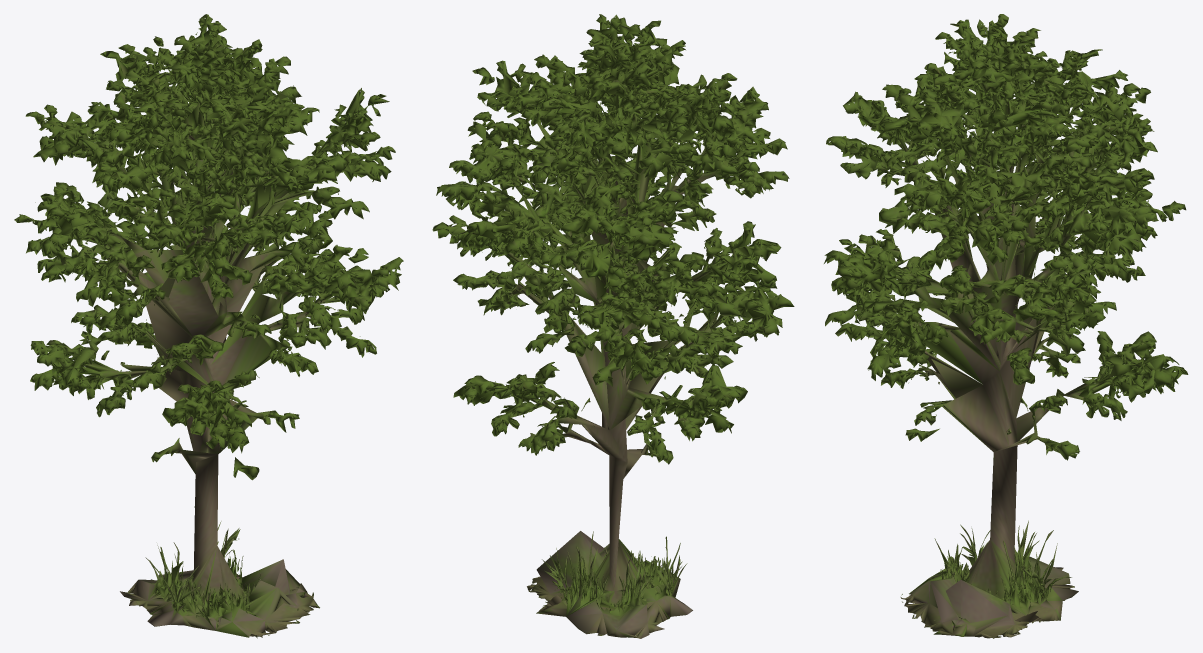
The model's file is verdant-tree.glb.
3 views of the same model, side by side, from view 1: azimuth 30°, elevation 25°; view 2: azimuth 150°, elevation 25°; view 3: azimuth 270°, elevation 25° (orthographic).
Parts seen in each view (by area): view 1: verdant-tree; view 2: verdant-tree; view 3: verdant-tree.
Part boxes in pixels (x1,y1,x2,y2): verdant-tree: [14, 14, 403, 638]; verdant-tree: [432, 14, 794, 638]; verdant-tree: [824, 14, 1188, 638].
Size of the model in its own units: 3 by 5.4 by 3.06.
1 material, 1 textured.
